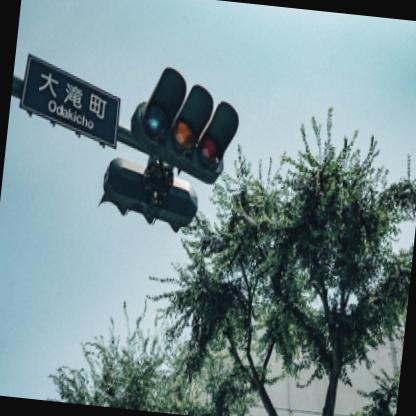trafficlight: (123, 60, 241, 183), (94, 148, 202, 236)
